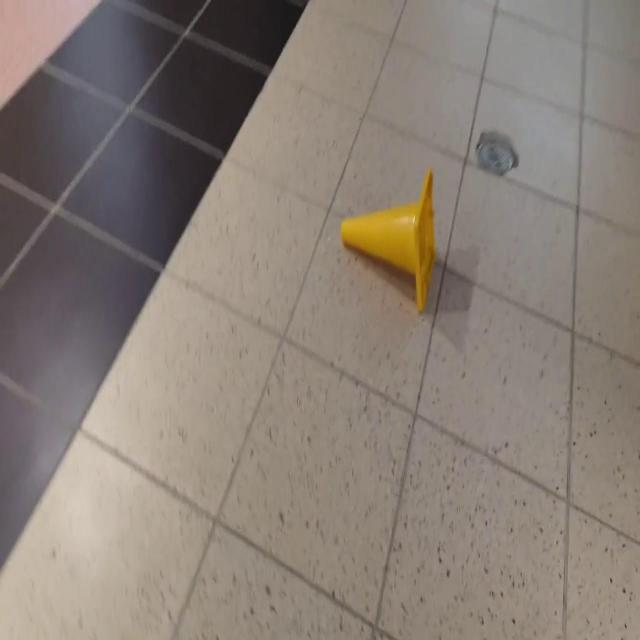frc_cone: (341, 166, 438, 312)
